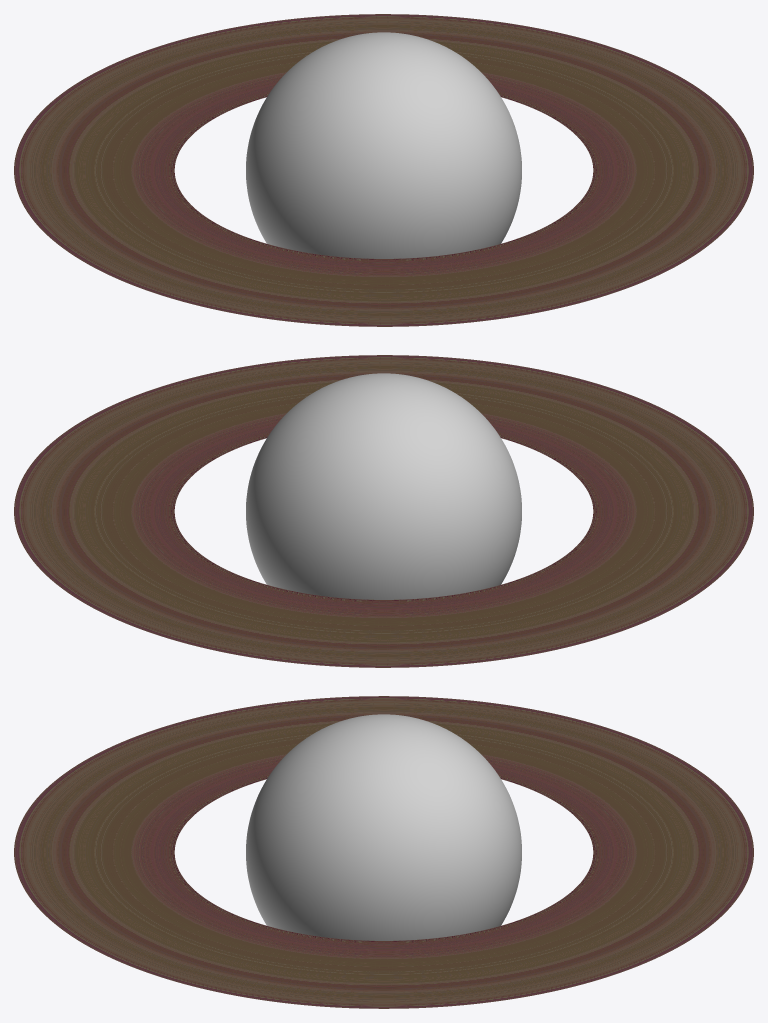
Rendered from Saturn.fbx.
3 views of the same model, one above another, from view 1: azimuth 30°, elevation 25°; view 2: azimuth 150°, elevation 25°; view 3: azimuth 270°, elevation 25° (orthographic).
Visible parts, largest first — view 1: node_id75, node_id73; view 2: node_id75, node_id73; view 3: node_id75, node_id73.
Part boxes in pixels (x1,y1,x2,y2): node_id75: [14, 14, 753, 326]; node_id73: [246, 32, 521, 258]; node_id75: [14, 355, 753, 667]; node_id73: [246, 373, 521, 599]; node_id75: [14, 696, 753, 1008]; node_id73: [246, 714, 521, 940].
Bounding box in the file's own units: 81.63 × 30.48 × 81.63.
